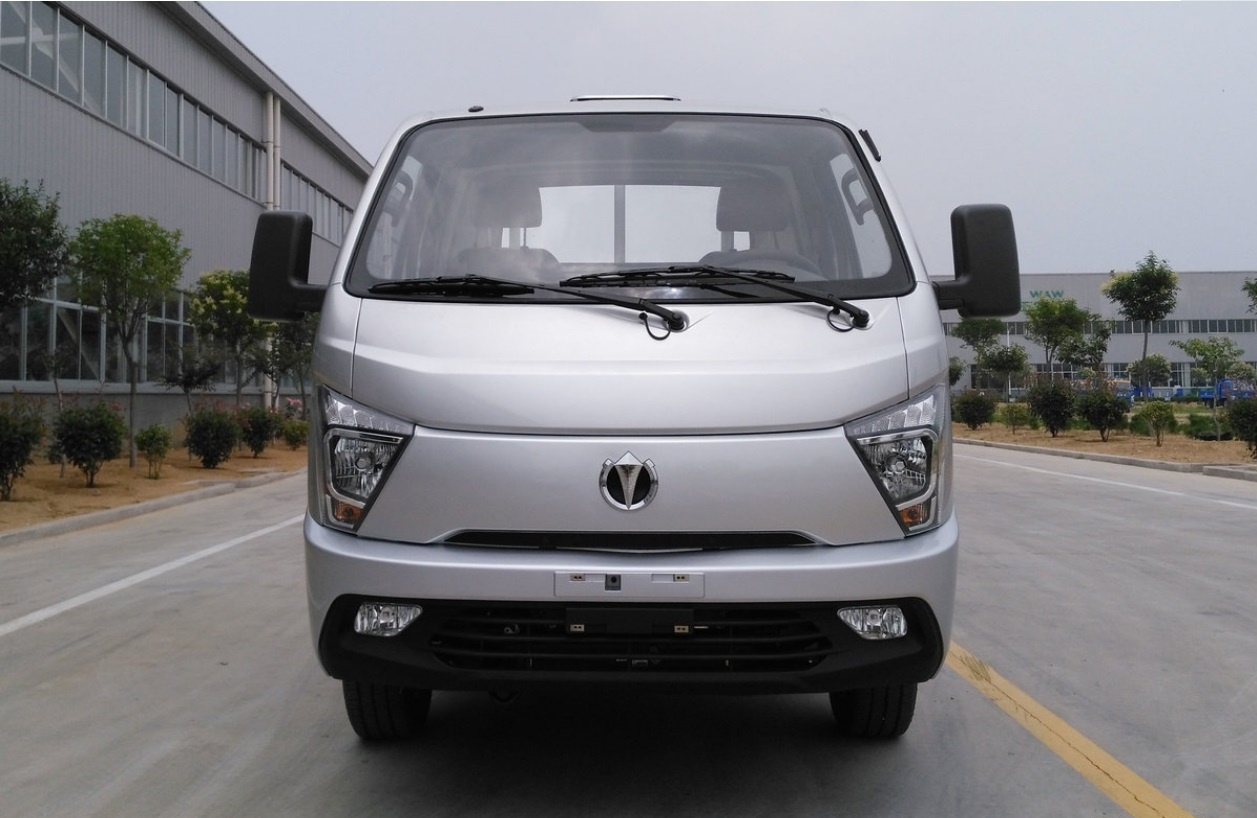truck: (262, 79, 1018, 722)
